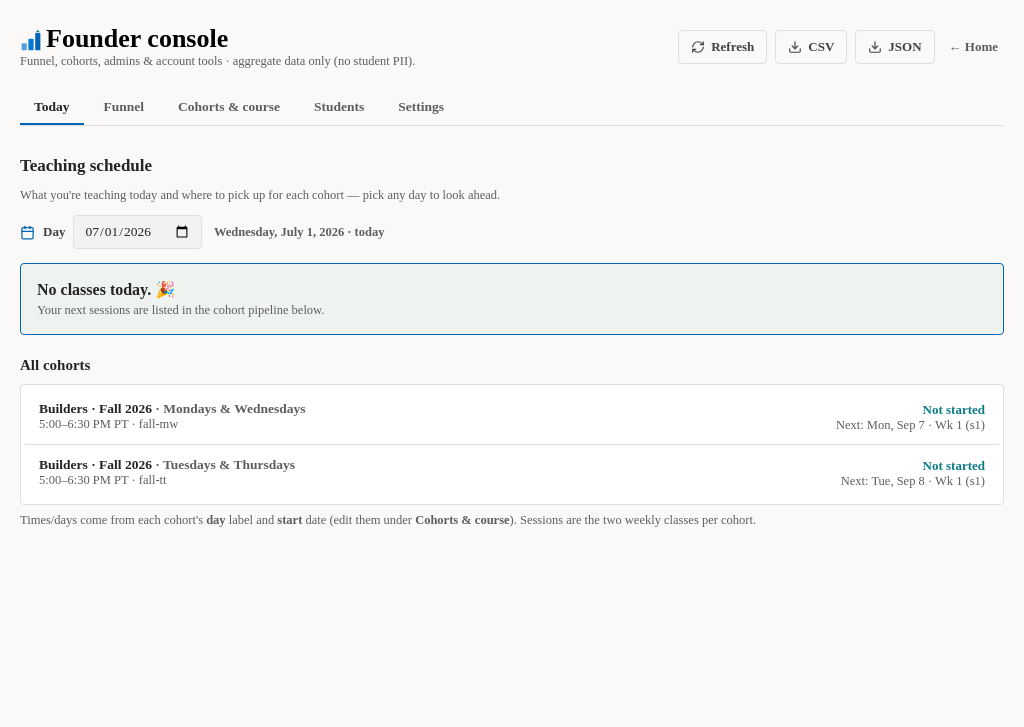
Test: FounderDashboard (account-gated) › funnel bar is NOT a misleading full bar for a downstream stage when the entry (Visited) is 0
Click the button "Funnel". click: (124, 106)
box: [104,99,144,114]
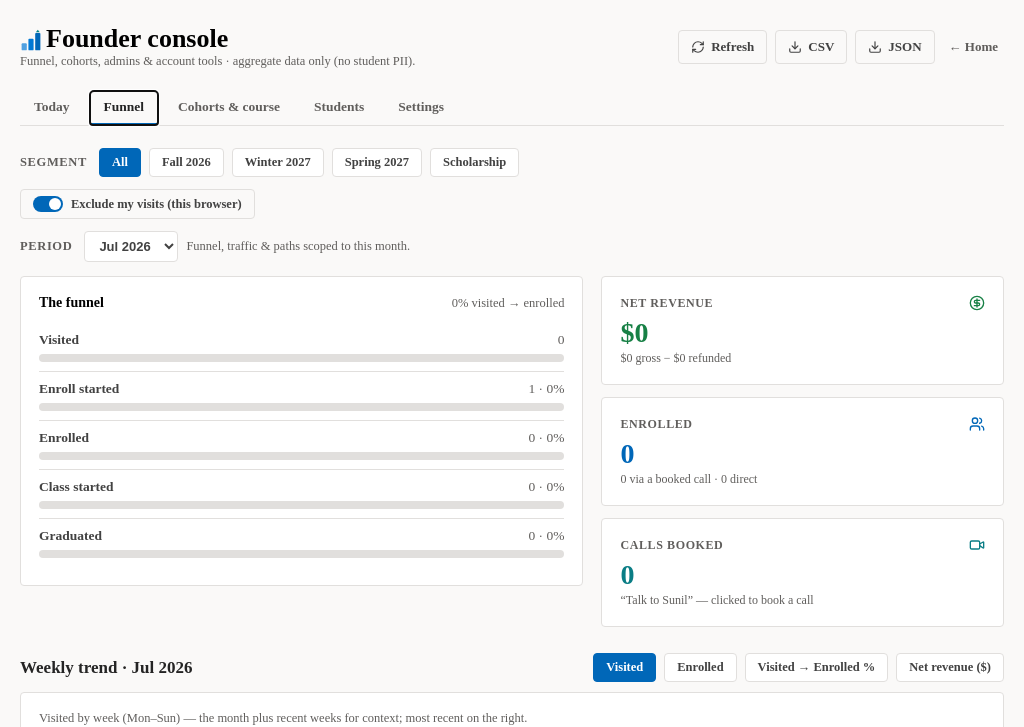
Expected: the text "The funnel" is shown, [39,295,104,311]
